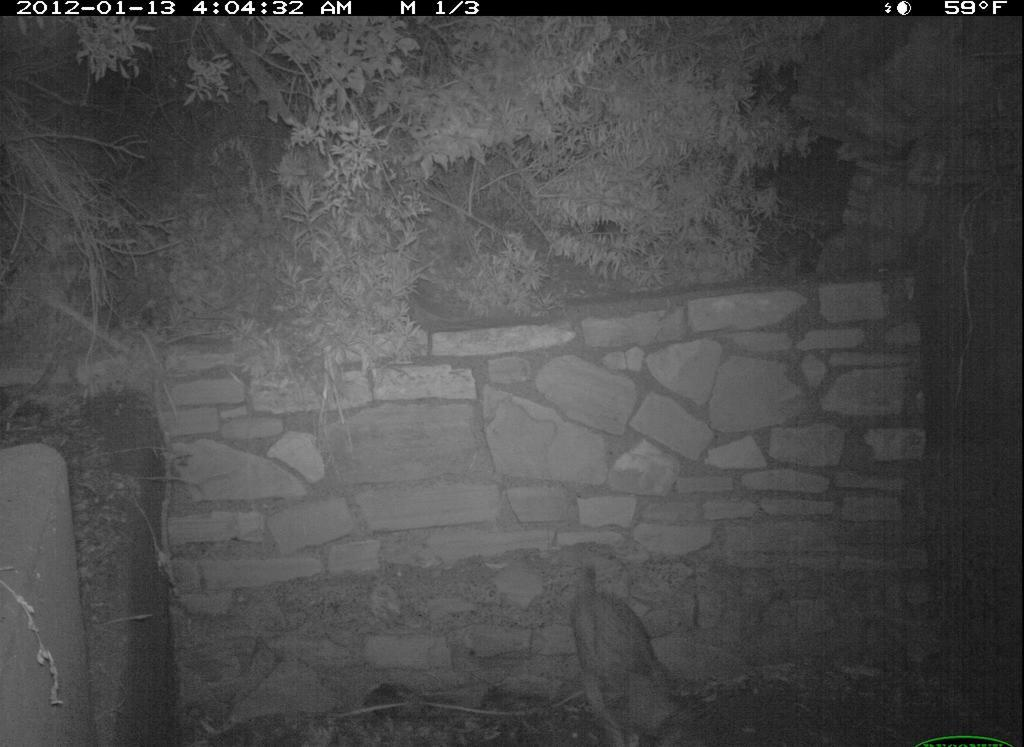bobcat: (564, 559, 705, 747)
